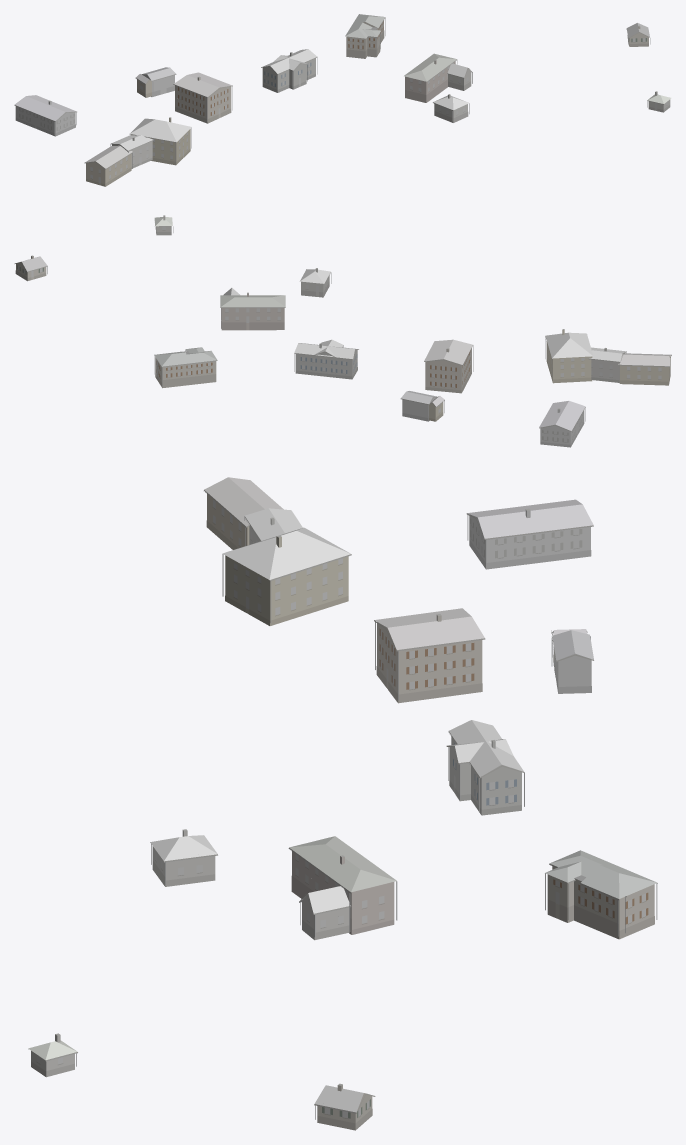
The picture shows the model from 3 angles, top to bottom: view 1: azimuth 30°, elevation 25°; view 2: azimuth 150°, elevation 25°; view 3: azimuth 270°, elevation 25°; orthographic projection. The views are drawn at different scales.
Parts seen in each view (by area): view 1: bld; view 2: bld; view 3: bld.
Boxes of the visible parts, x1,y1,x2,y2 form: bld: [14, 14, 671, 186]; bld: [14, 215, 671, 447]; bld: [28, 477, 657, 1130].
Bounding box in the file's own units: 222 × 19.95 × 103.
